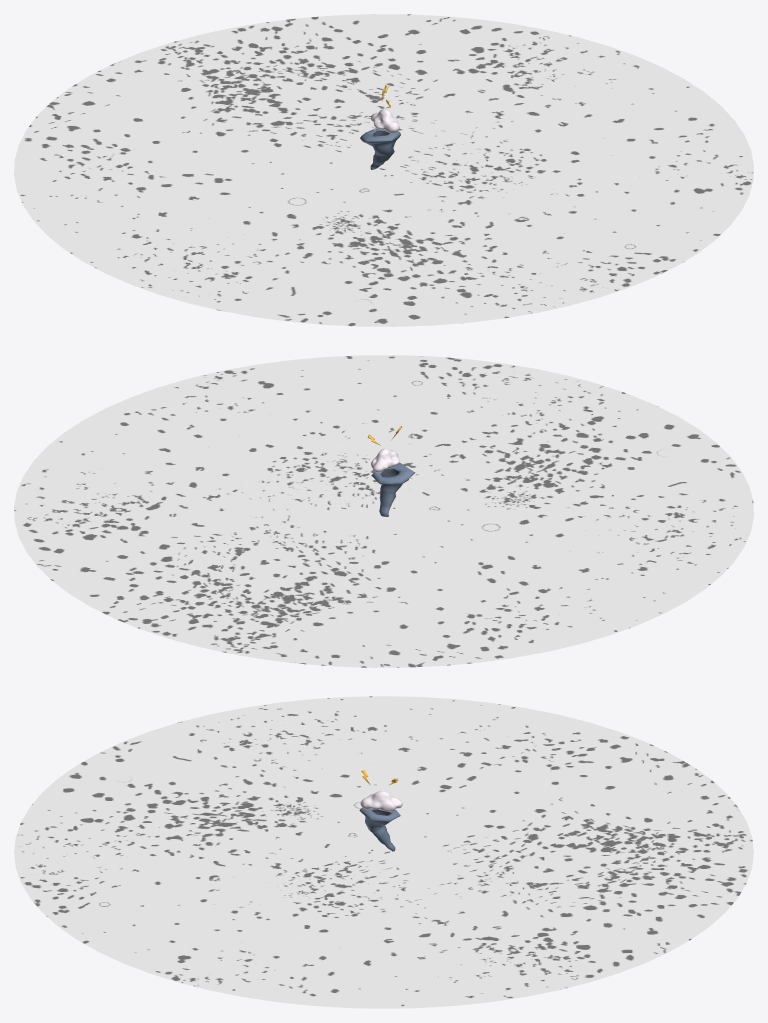
Rendered from Slow.glb.
3 renders of one model, top to bottom at view 1: azimuth 30°, elevation 25°; view 2: azimuth 150°, elevation 25°; view 3: azimuth 270°, elevation 25°, orthographic.
Visible parts, largest first — view 1: Bottom, Nuage; view 2: Bottom, Nuage; view 3: Bottom, Nuage.
Boxes of the visible parts, box(x1,y1,x2,y2) form: Bottom: box(14, 14, 753, 326); Nuage: box(360, 85, 400, 169); Bottom: box(14, 355, 753, 667); Nuage: box(367, 426, 415, 516); Bottom: box(14, 696, 753, 1008); Nuage: box(359, 770, 402, 851).
Bounding box in the file's own units: 30 × 3.76 × 30.
Materials: 3 (2 with a texture image).
